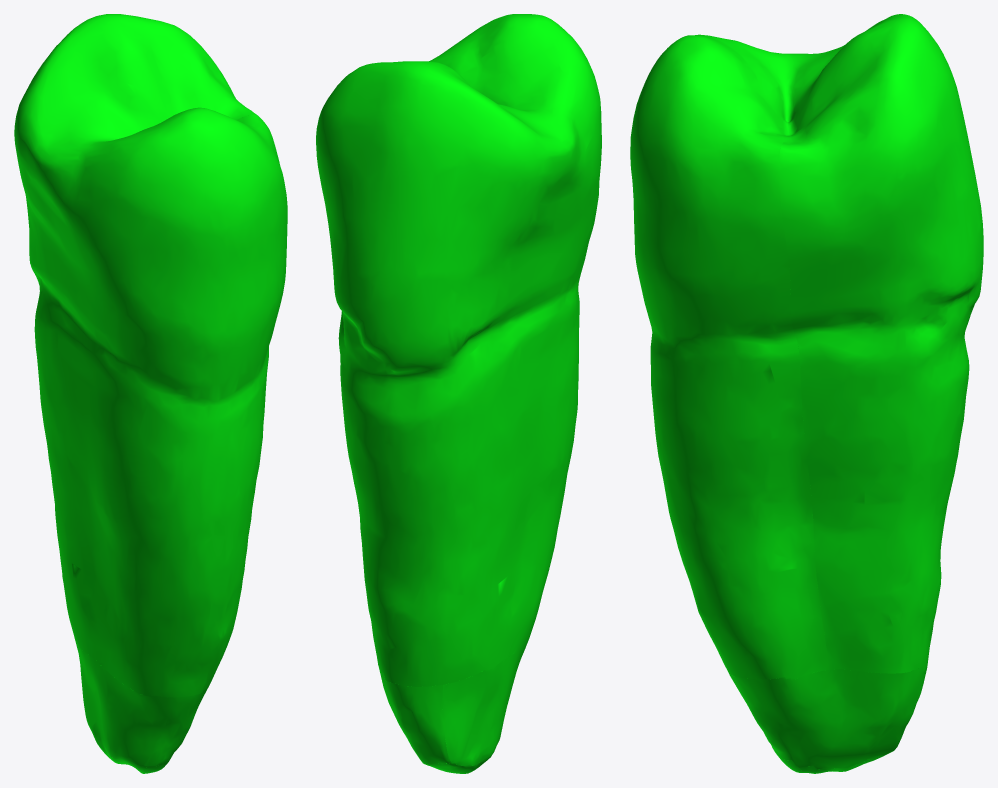
Rendered from pieza_b.glb.
3 renders of one model, left to right at view 1: azimuth 30°, elevation 25°; view 2: azimuth 150°, elevation 25°; view 3: azimuth 270°, elevation 25°, orthographic. The views are drawn at different scales.
Visible parts, largest first — view 1: 25__0; view 2: 25__0; view 3: 25__0.
Boxes of the visible parts, x1,y1,x2,y2 form: 25__0: (14,14,287,773); 25__0: (316,14,601,773); 25__0: (630,14,983,773).
Bounding box in the file's own units: 0.0609 × 0.19 × 0.0809.
